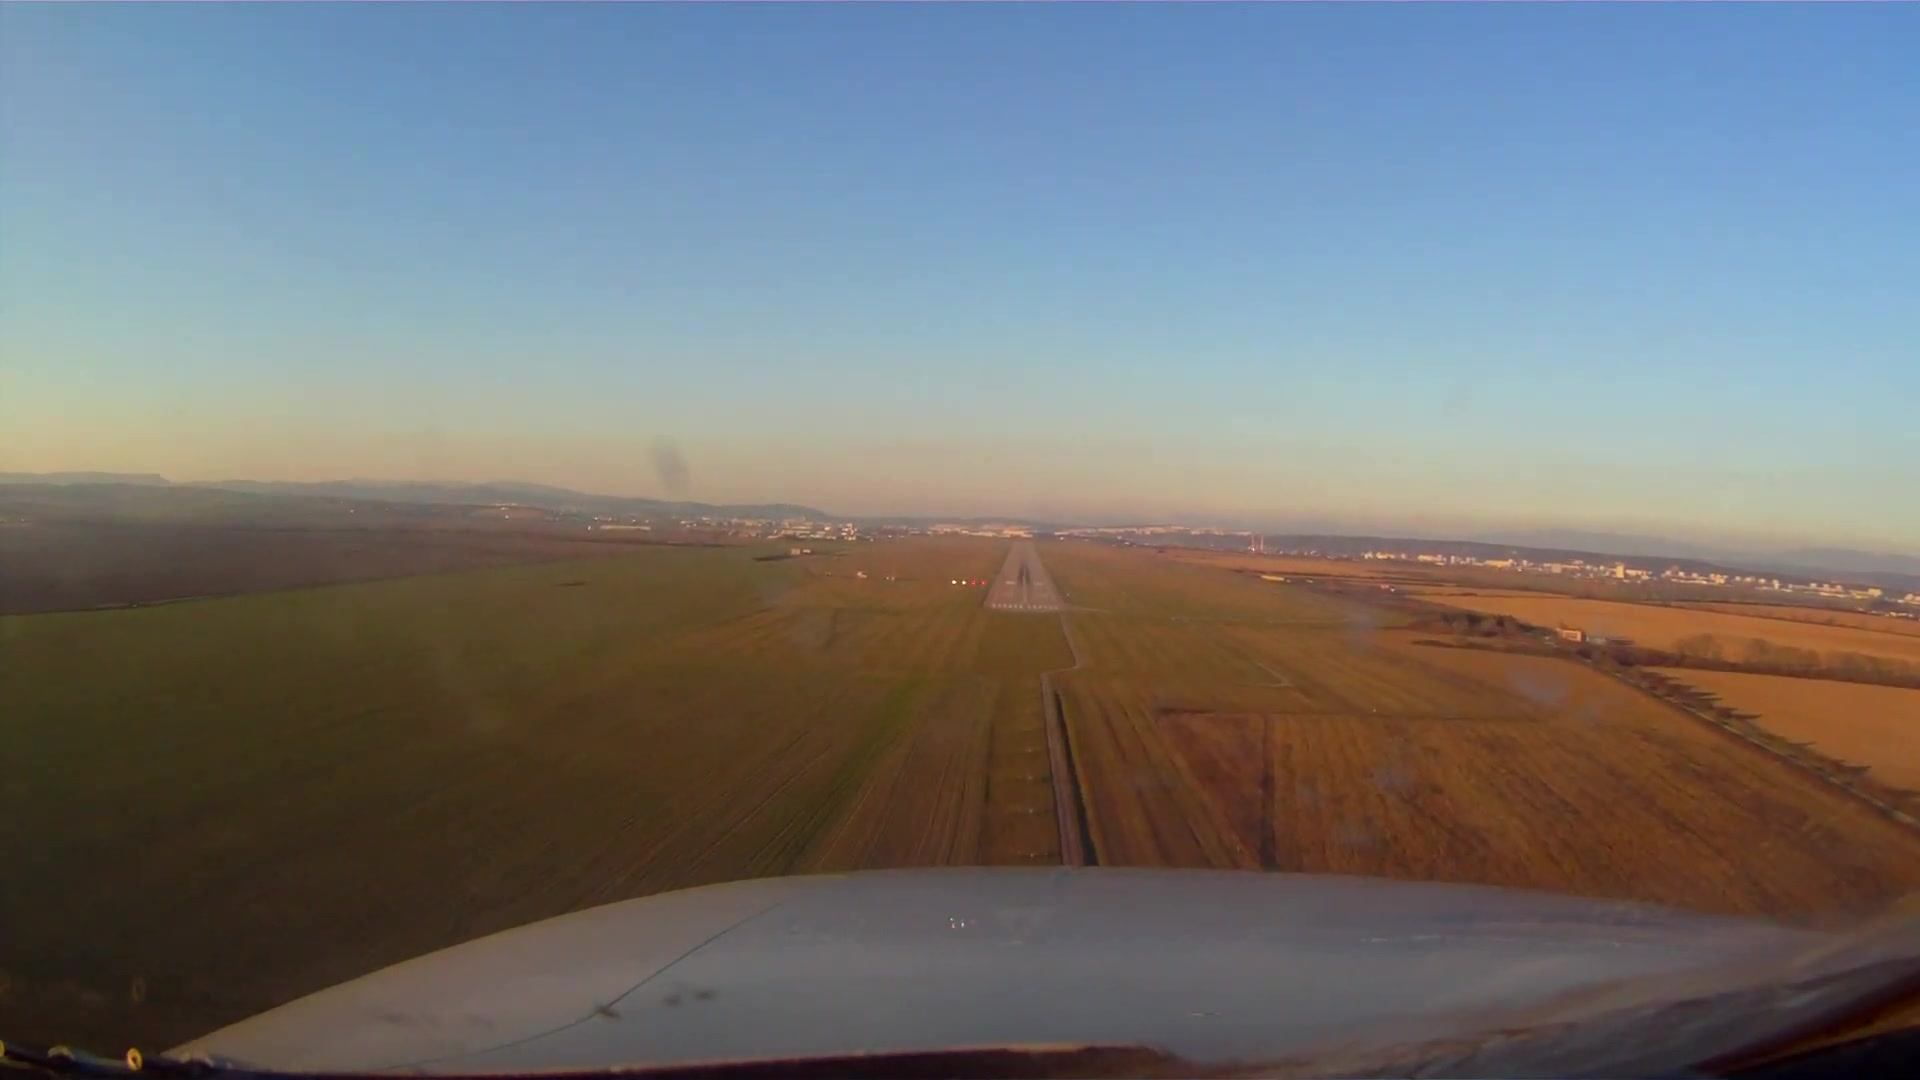entrance: (989, 601, 1059, 611)
runway: (978, 539, 1069, 615)
